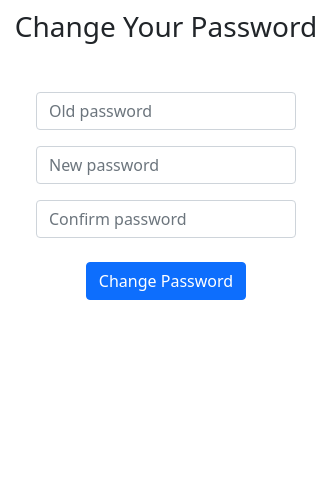
Scenario: Testing EditPassword component › Testing the component when the entered password is invalid
entering a not valid password
Type "blabla" into the password field with placeholder "New password" at (166, 165), box [36,146,296,184]
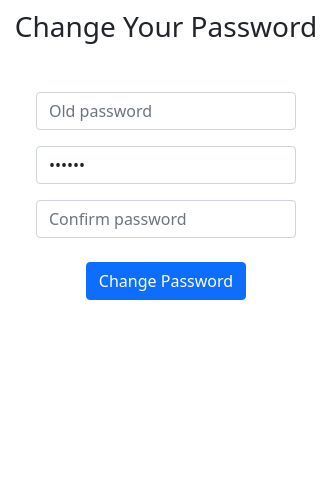
clicking change password button
Click the button "Change Password" at (166, 281), box [86,262,246,300]
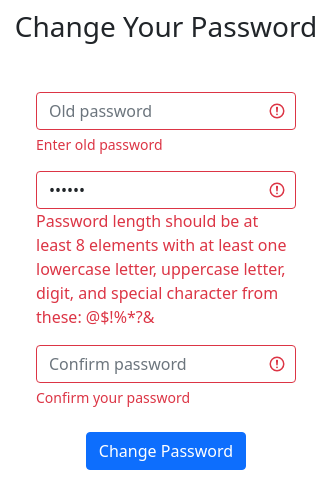
Now the text "Password length" is shown, box [36,210,286,328]
